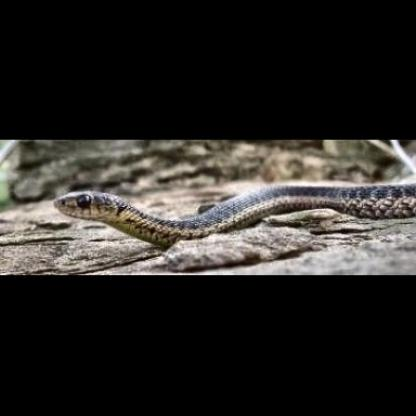Snake: (54, 182, 416, 242)
